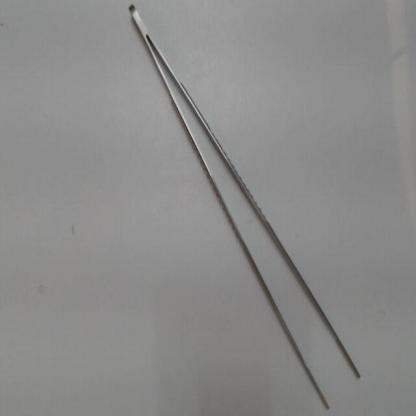DeBakey Dissector: (123, 0, 386, 412)
